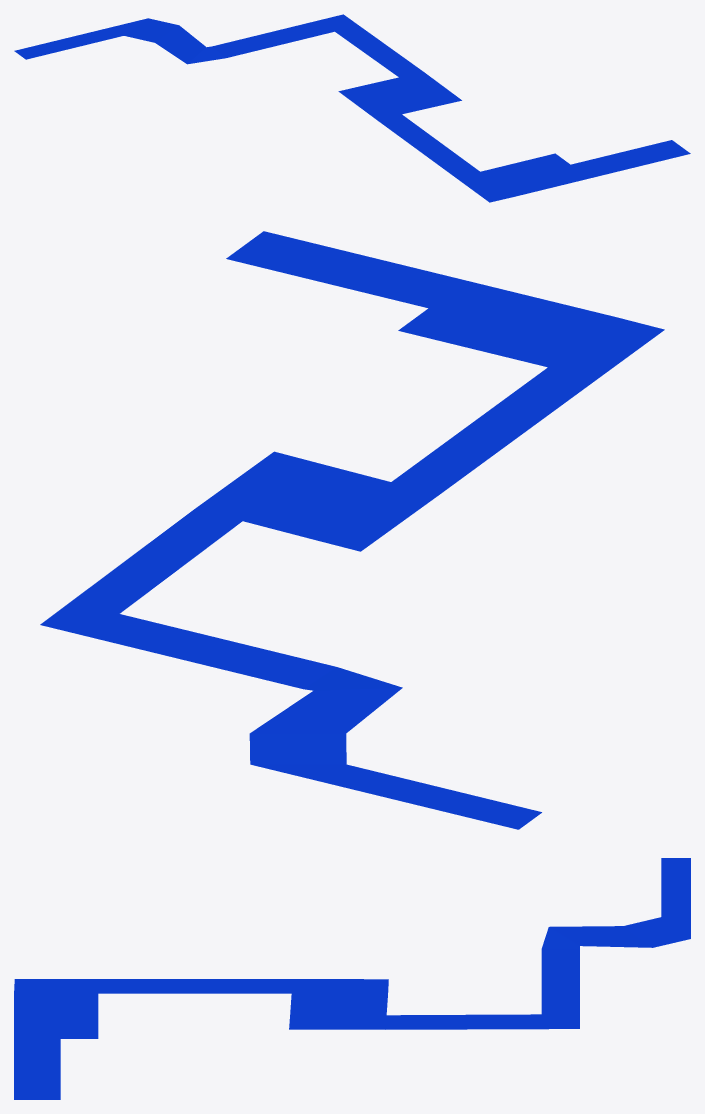
The model's file is size_road.fbx.
The picture shows the model from 3 angles, top to bottom: view 1: azimuth 30°, elevation 25°; view 2: azimuth 150°, elevation 25°; view 3: azimuth 270°, elevation 25°; orthographic projection. The views are drawn at different scales.
Parts seen in each view (by area): view 1: Plane.019; view 2: Plane.019; view 3: Plane.019.
Boxes of the visible parts, x1,y1,x2,y2 form: Plane.019: (14,14,690,202); Plane.019: (40,231,664,829); Plane.019: (14,858,690,1099).
Size of the model in its own units: 332 by 0.5791 by 393.
